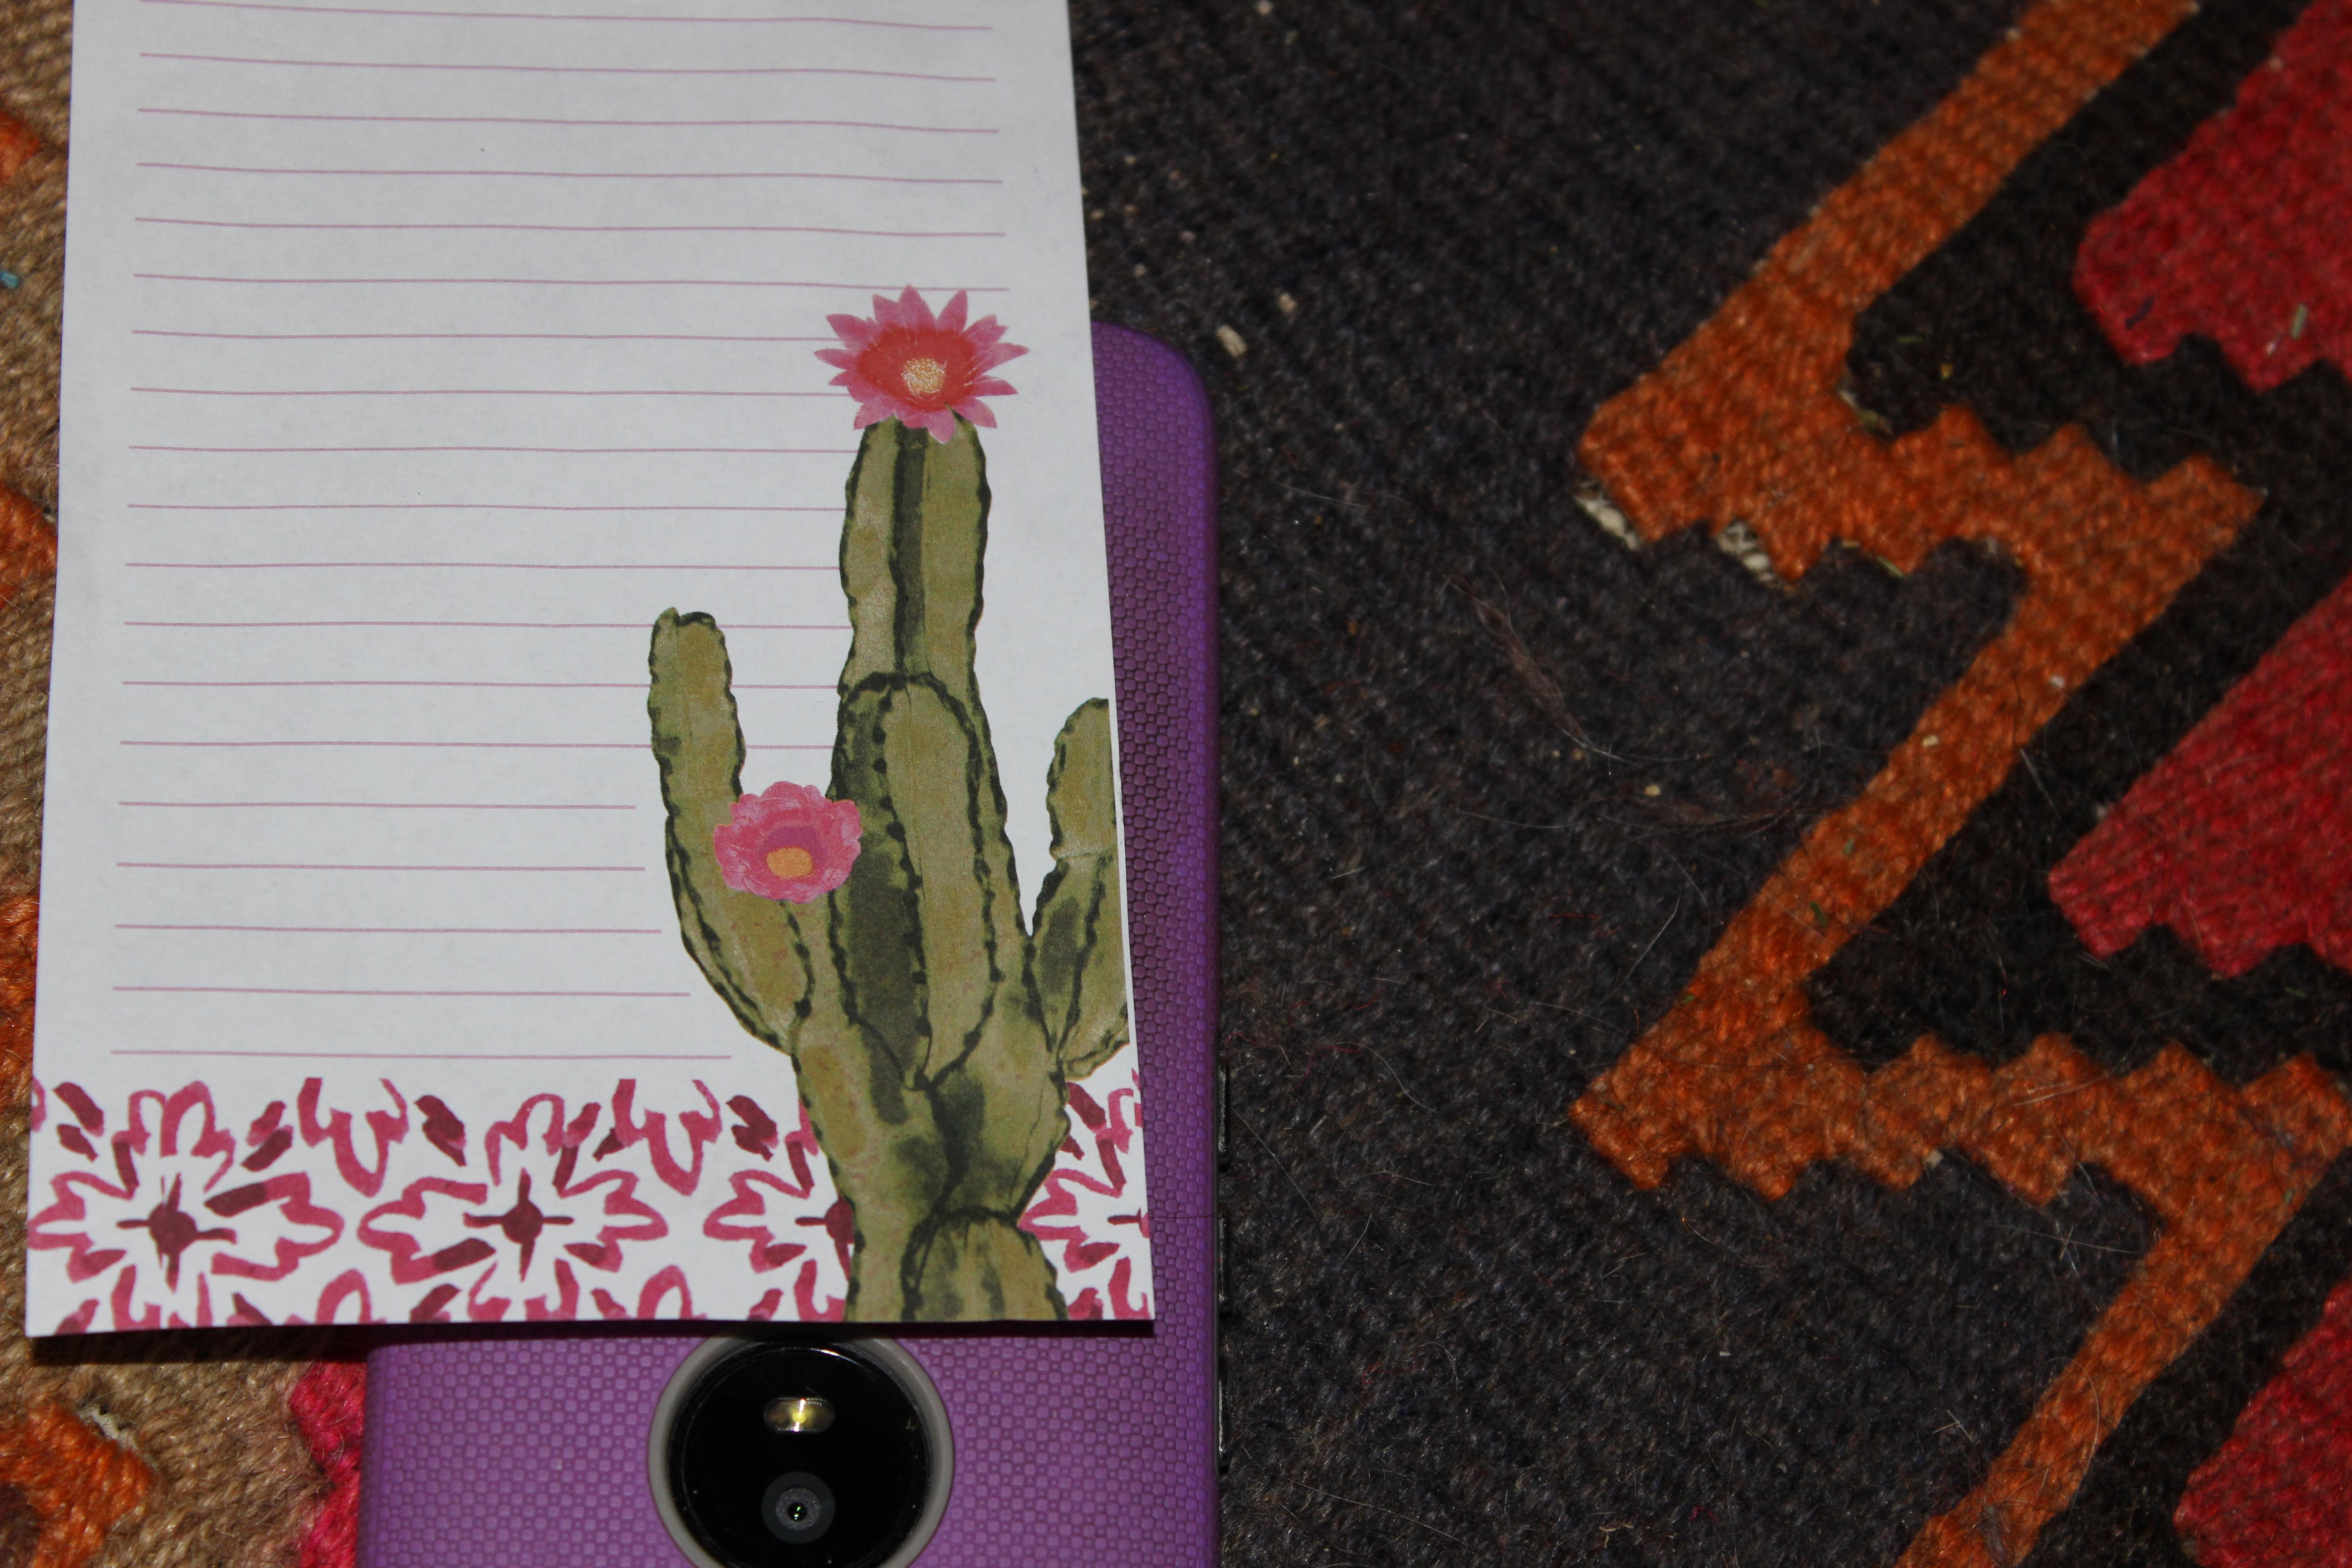cactusPaper: (10, 0, 1195, 1381)
